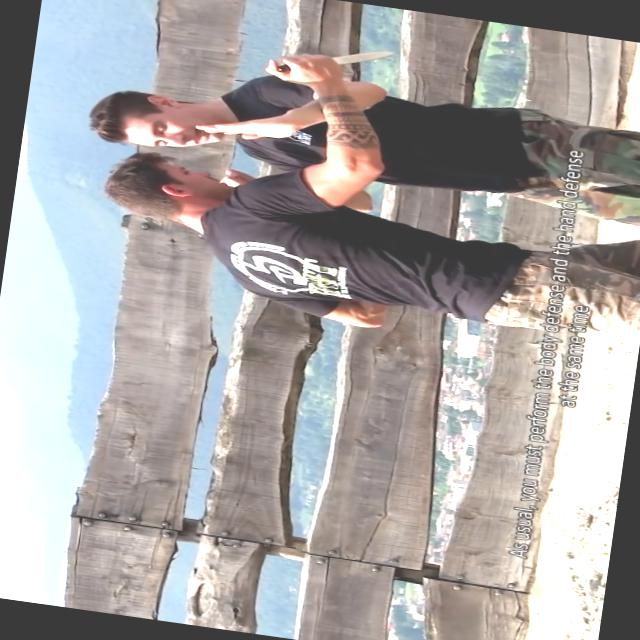knife: (260, 32, 398, 96)
